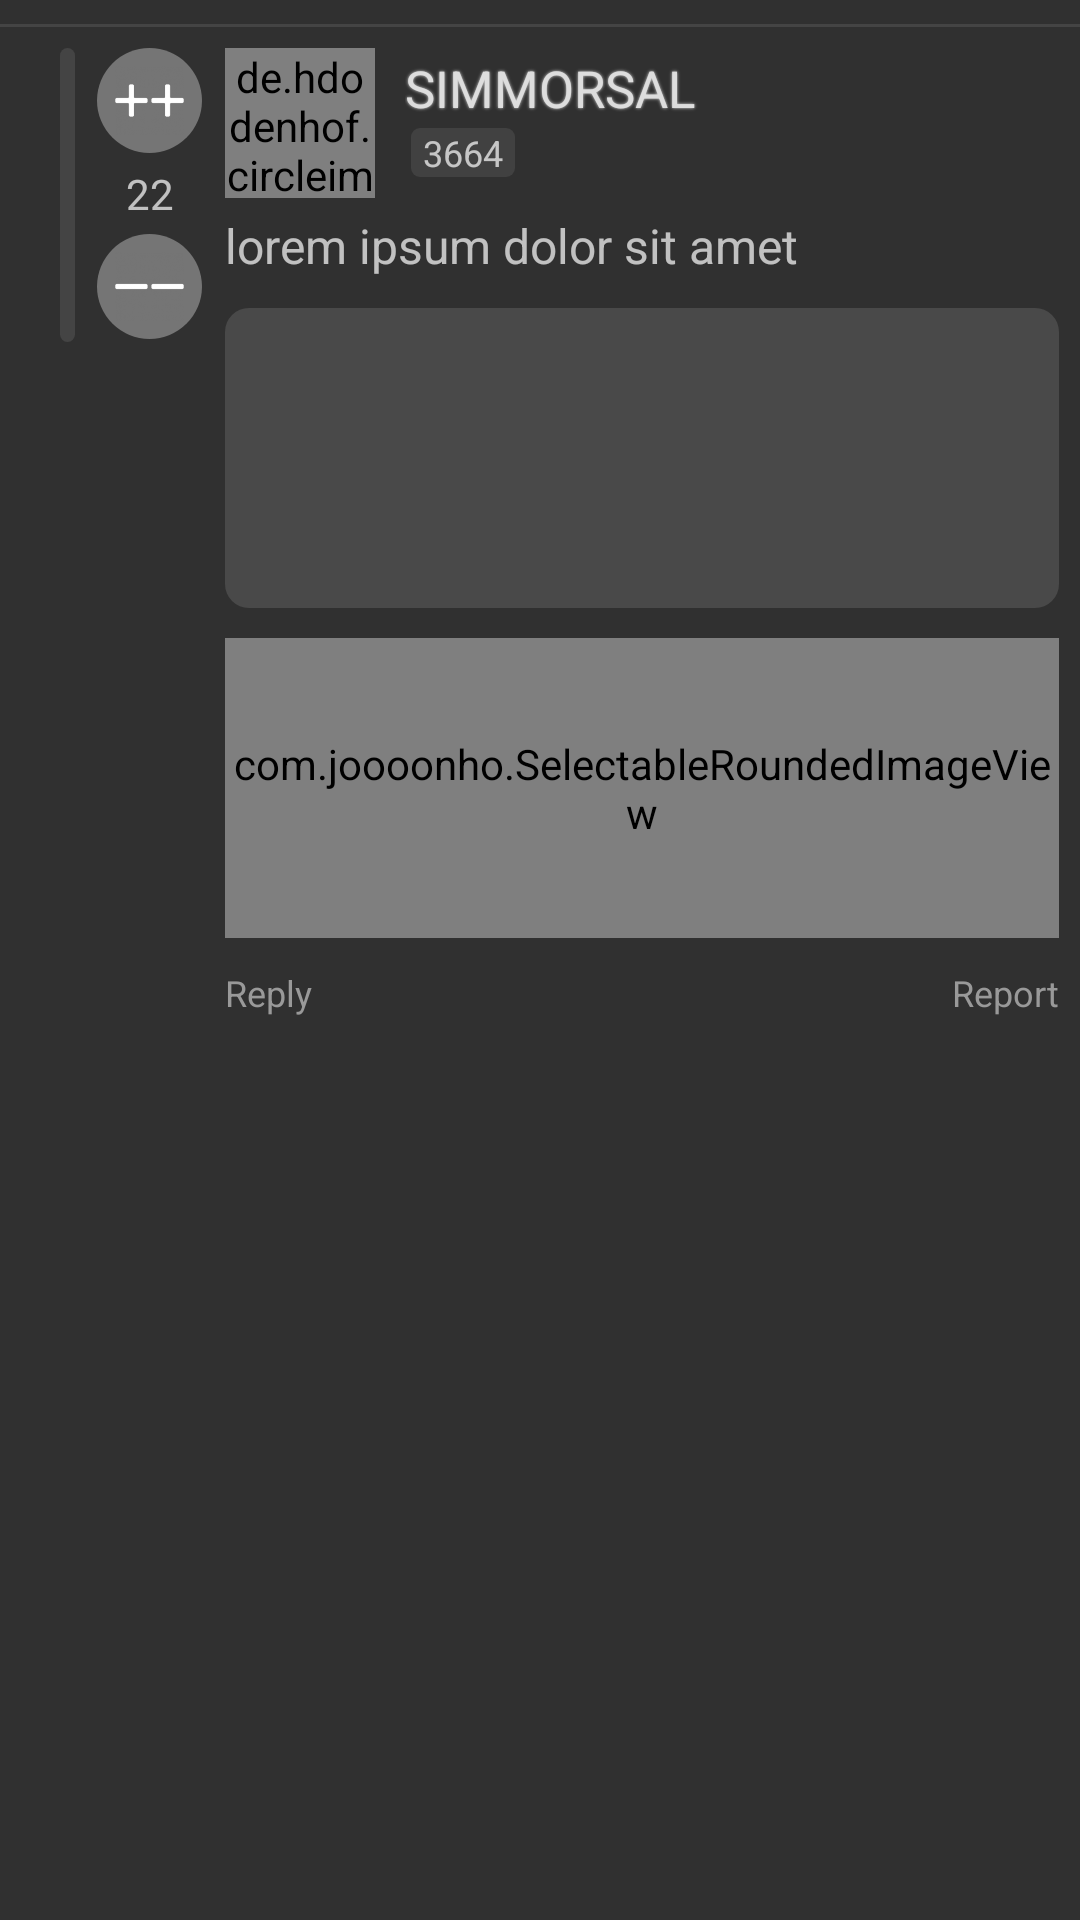

Screen size 1080px×1920px. Icon name, then its box in pixels as (x1, y1, x2, y2):
minusminus: (97, 234, 202, 339)
plusplus: (97, 48, 202, 153)
